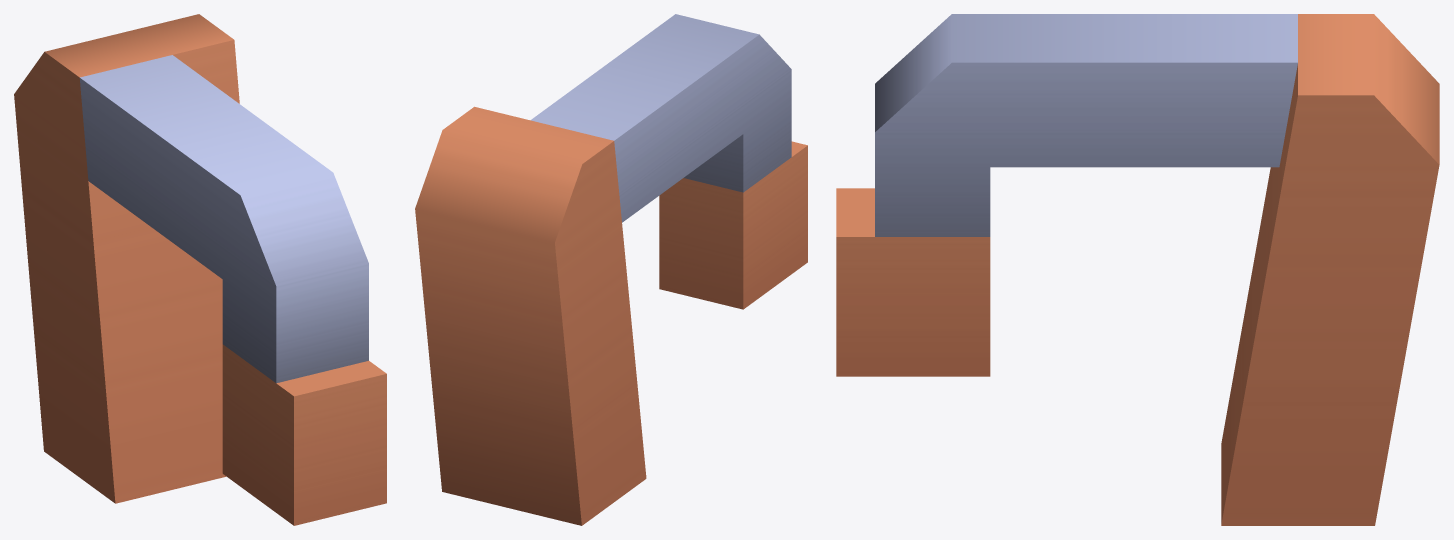
The model's file is aid_hearing.fbx.
3 views of the same model, side by side, from view 1: azimuth 30°, elevation 25°; view 2: azimuth 150°, elevation 25°; view 3: azimuth 270°, elevation 25° (orthographic). The views are drawn at different scales.
Parts seen in each view (by area): view 1: aid_hearing; view 2: aid_hearing; view 3: aid_hearing.
Part boxes in pixels (x1=…): aid_hearing: x1=14, y1=14, x2=386, y2=525; aid_hearing: x1=415, y1=14, x2=807, y2=525; aid_hearing: x1=836, y1=14, x2=1439, y2=525.
Size of the model in its own units: 5 by 12.35 by 15.68.
